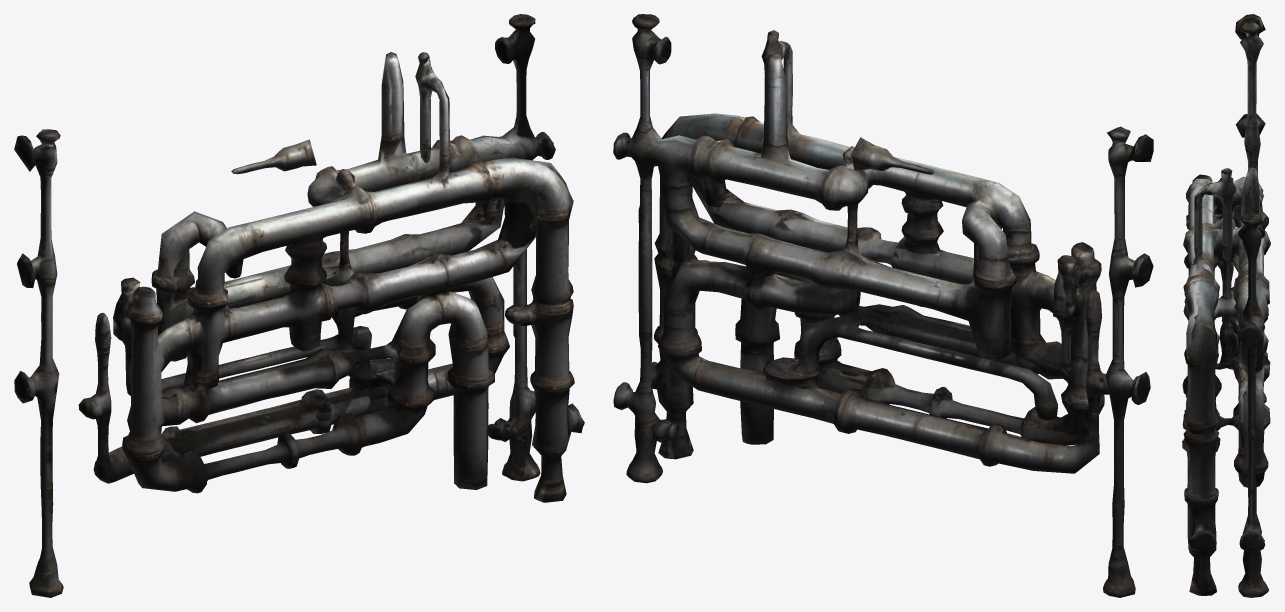
The model's file is Creepy_old_shining_pi_0124161439_texture.fbx.
3 views of the same model, side by side, from view 1: azimuth 30°, elevation 25°; view 2: azimuth 150°, elevation 25°; view 3: azimuth 270°, elevation 25° (orthographic). The views are drawn at different scales.
Visible parts, largest first — view 1: Mesh1_Mesh1.003; view 2: Mesh1_Mesh1.003; view 3: Mesh1_Mesh1.003.
Boxes of the visible parts, box(x1,y1,x2,y2) form: Mesh1_Mesh1.003: box(14, 14, 584, 597); Mesh1_Mesh1.003: box(613, 14, 1153, 597); Mesh1_Mesh1.003: box(1182, 14, 1270, 597).
Bounding box in the file's own units: 1193 × 1000 × 212.
Materials: 1 (1 with a texture image).
